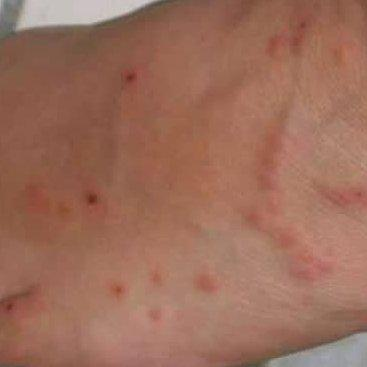Fleas: (221, 121, 345, 303), (0, 286, 45, 327), (190, 265, 226, 299), (322, 186, 366, 210), (266, 34, 302, 57), (106, 283, 136, 304), (122, 65, 144, 91), (78, 193, 101, 217), (27, 186, 44, 204)
